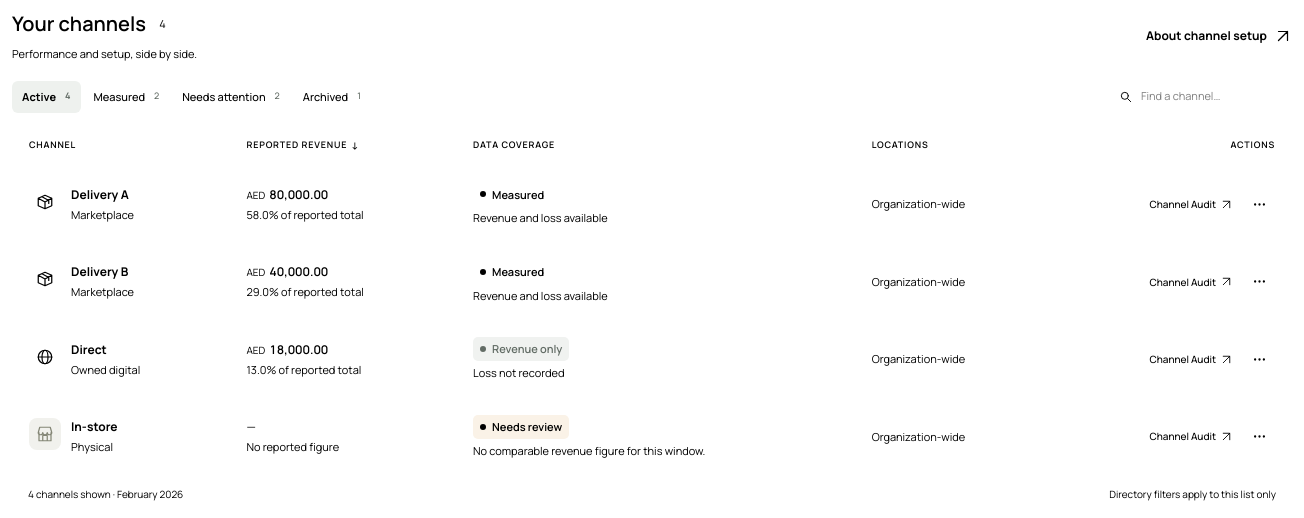
Test: ChannelsDirectory › caps the query at 160 characters and clears through the labelled X
Type "delivery" into the search field named "Search channels" at (1212, 97), box top-left (1141, 88), bottom-right (1283, 105)
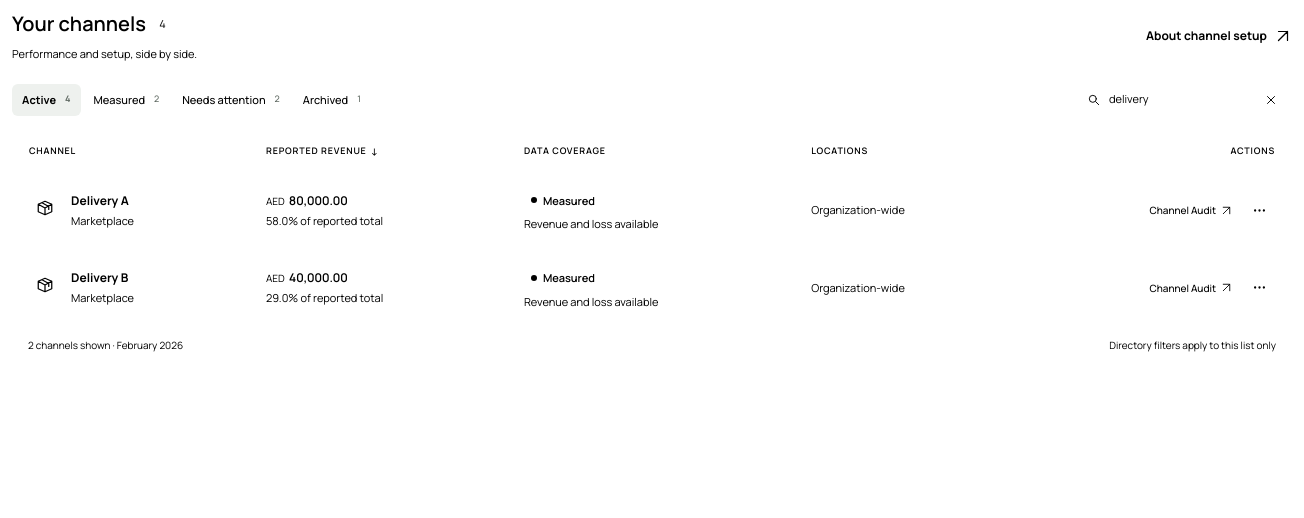
Expected: the button named "Clear channel search" is shown
Click the button named "Clear channel search" at (1271, 100), box top-left (1259, 88), bottom-right (1283, 112)
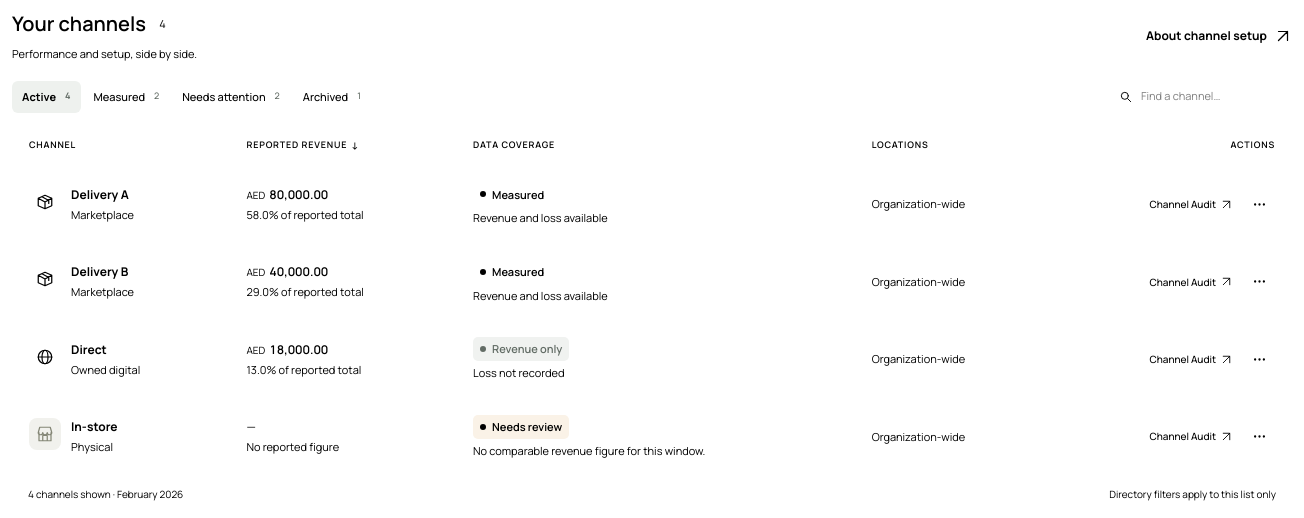
Expected: the search field named "Search channels" is empty, top-left (1141, 88), bottom-right (1283, 105)
